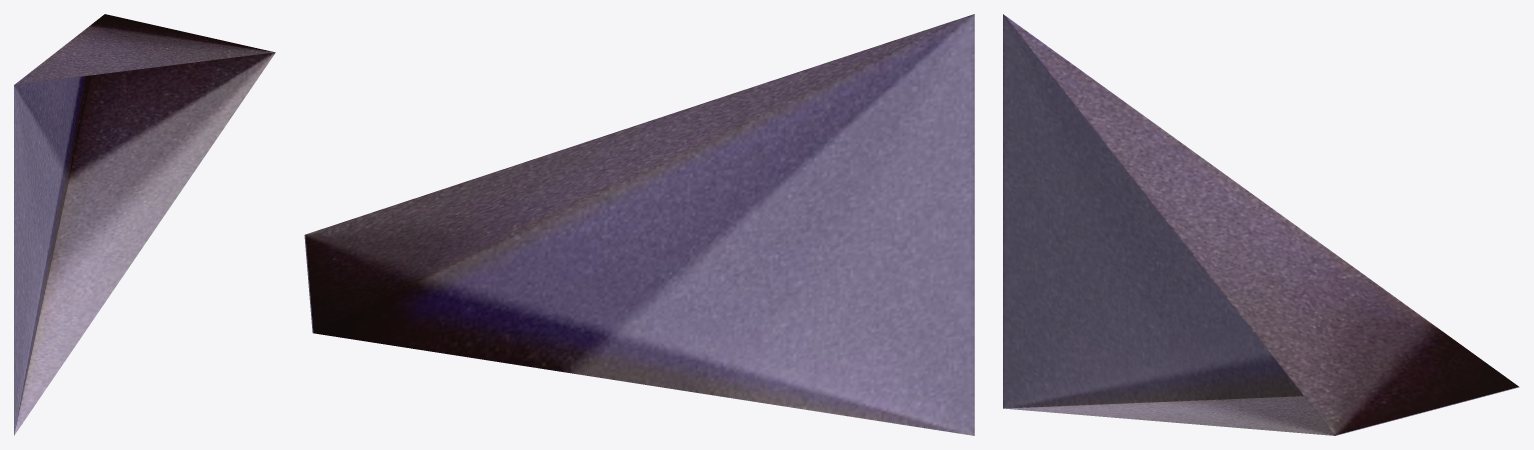
Rendered from youtube_play.glb.
3 views of the same model, side by side, from view 1: azimuth 30°, elevation 25°; view 2: azimuth 150°, elevation 25°; view 3: azimuth 270°, elevation 25° (orthographic). The views are drawn at different scales.
Parts seen in each view (by area): view 1: youtube_play; view 2: youtube_play; view 3: youtube_play.
Boxes of the visible parts, <box> form: youtube_play: <box>14,14,275,435</box>; youtube_play: <box>304,14,974,435</box>; youtube_play: <box>1003,14,1519,435</box>.
Size of the model in its own units: 0.6193 by 0.5071 by 0.602.
1 material, 1 textured.
